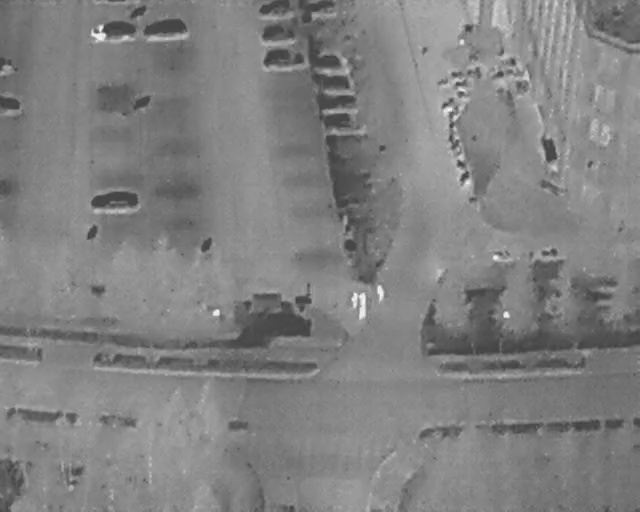Car: (143, 18, 189, 39), (90, 19, 136, 38), (90, 191, 138, 209), (263, 48, 304, 68), (317, 91, 356, 109), (323, 111, 359, 130), (315, 72, 350, 91), (260, 24, 295, 42), (259, 0, 294, 16), (314, 54, 343, 71), (0, 93, 21, 111), (0, 56, 18, 76)
Person: (376, 283, 385, 303), (350, 292, 359, 309), (359, 292, 367, 307), (359, 304, 366, 319)
